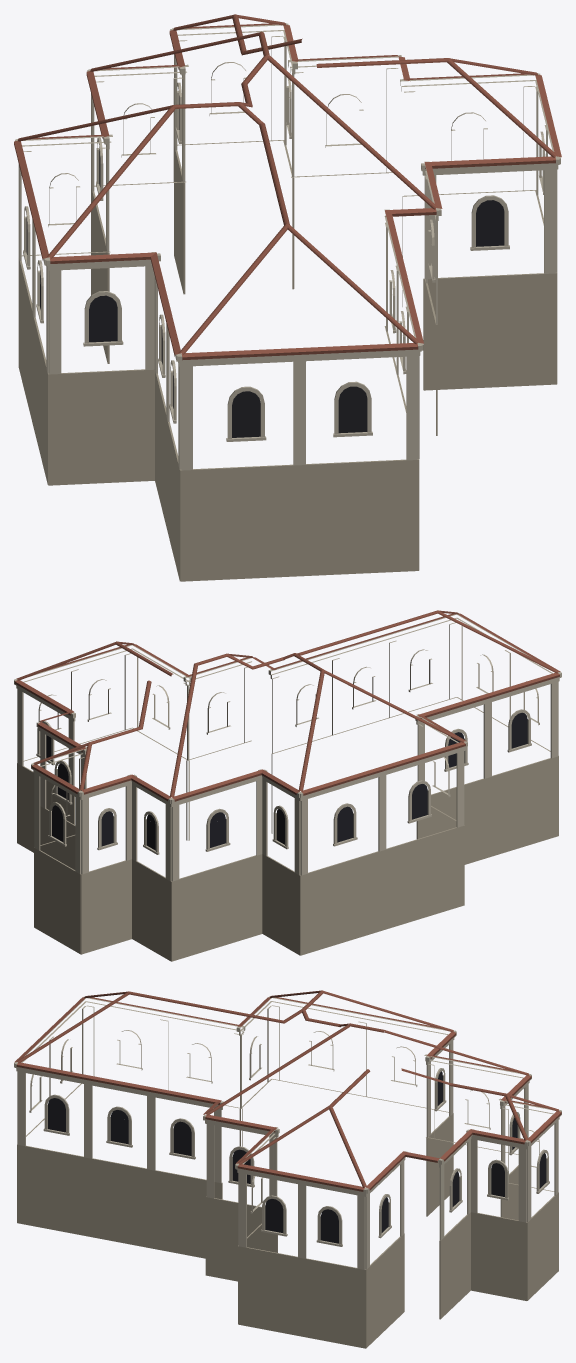
3 renders of one model, top to bottom at view 1: azimuth 30°, elevation 25°; view 2: azimuth 150°, elevation 25°; view 3: azimuth 270°, elevation 25°, orthographic. The views are drawn at different scales.
Parts seen in each view (by area): view 1: detail; view 2: detail; view 3: detail.
Boxes of the visible parts, box(x1,y1,x2,y2) form: detail: box(14, 14, 561, 581); detail: box(14, 610, 561, 961); detail: box(14, 990, 561, 1348).
Bounding box in the file's own units: 31.45 × 17.27 × 37.56.
